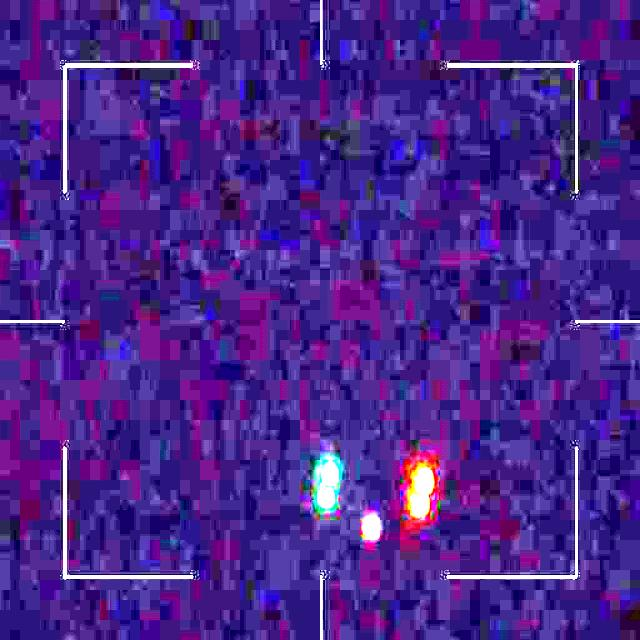bird: (318, 455, 435, 540)
